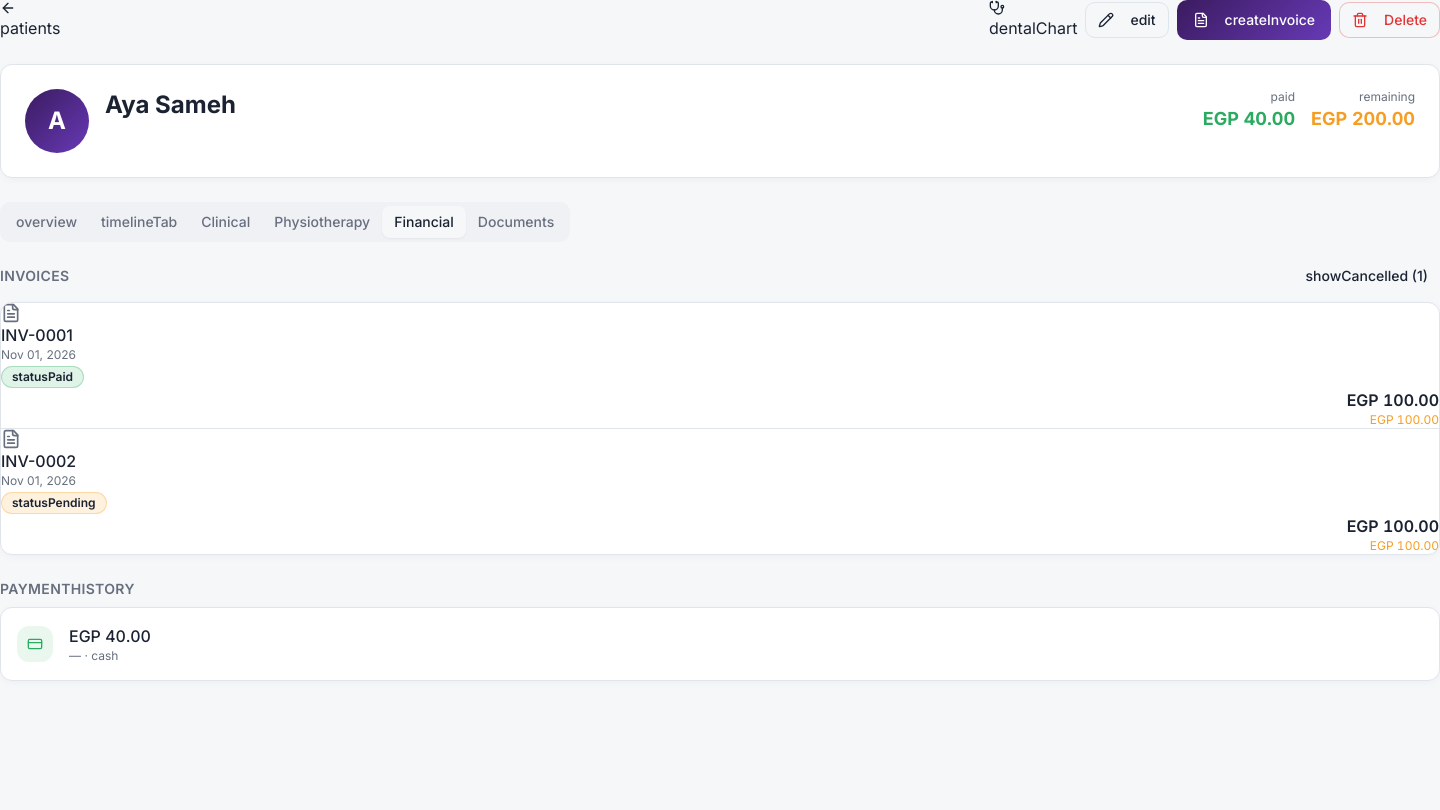
Test case: cancelled records off the working screen › keeps a cancelled invoice out of the list until the desk asks for it
The image size is (1440, 810).
Expected: the text "INV-0001" is shown, x1=1 y1=325 x2=73 y2=345
Expected: the text "INV-0009" is not shown
Click the button "showCancelled (1)": click(1367, 276) x1=1294 y1=258 x2=1439 y2=294
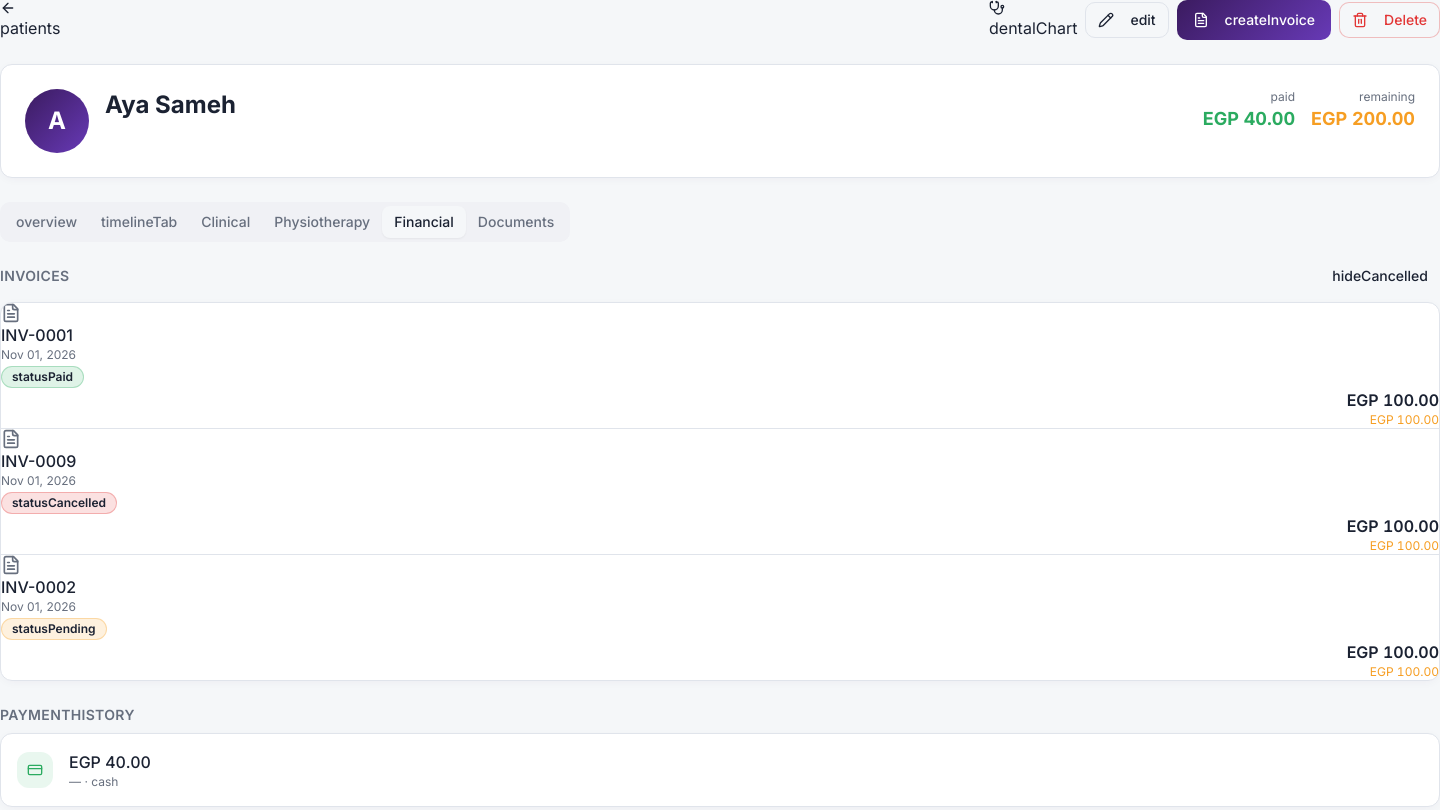
Expected: the text "INV-0009" is shown, x1=1 y1=451 x2=76 y2=471
Click the button "hideCancelled": click(1380, 276) x1=1320 y1=258 x2=1439 y2=294
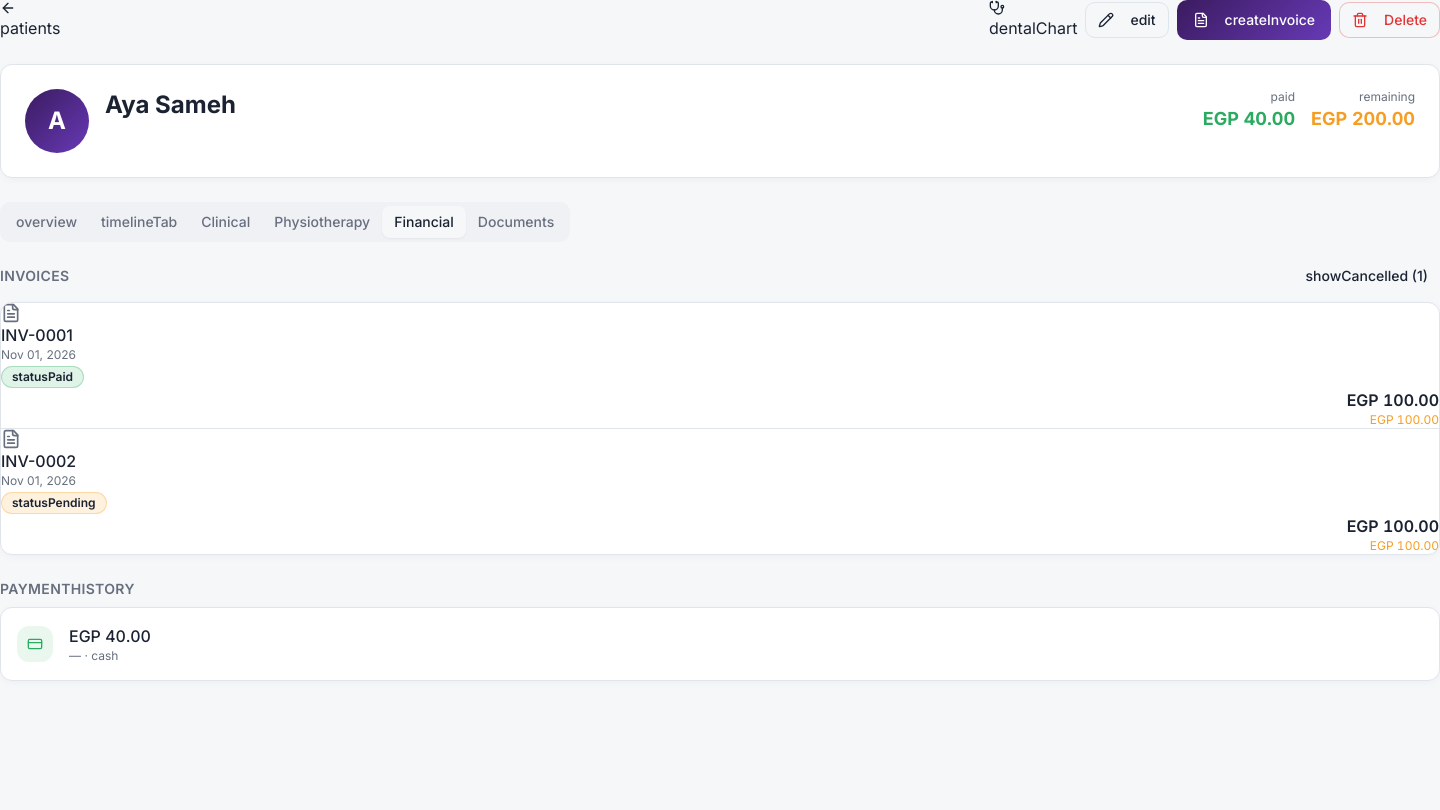
Expected: the text "INV-0009" is gone
